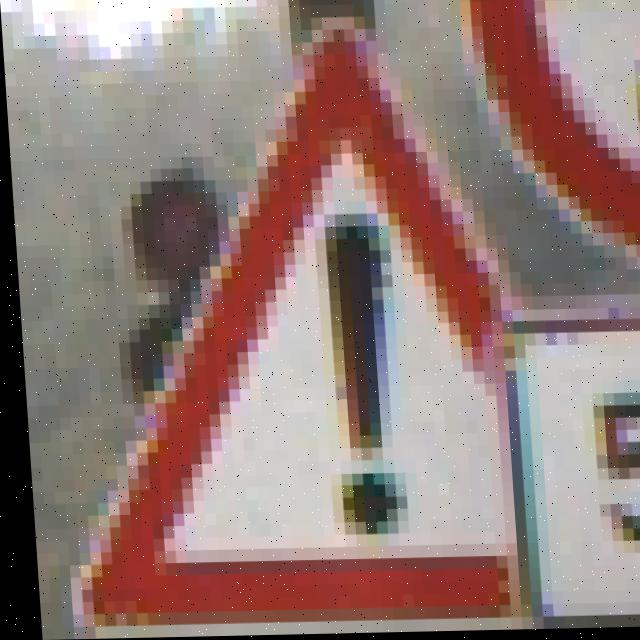speed_limit_50: (510, 281, 640, 628)
warning: (35, 39, 512, 639)
